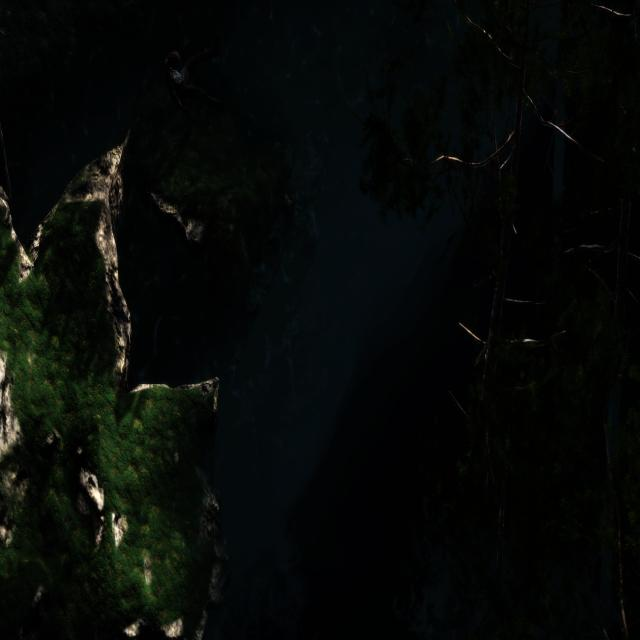Human: (165, 30, 228, 122)
